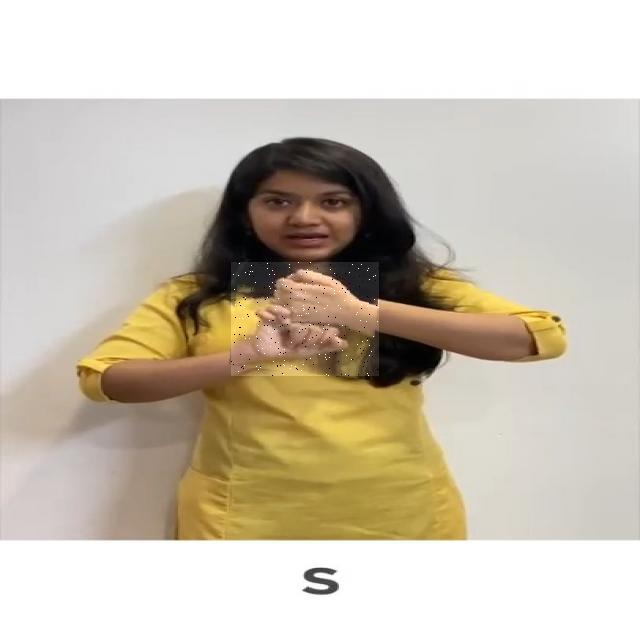S: (231, 262, 379, 376)
